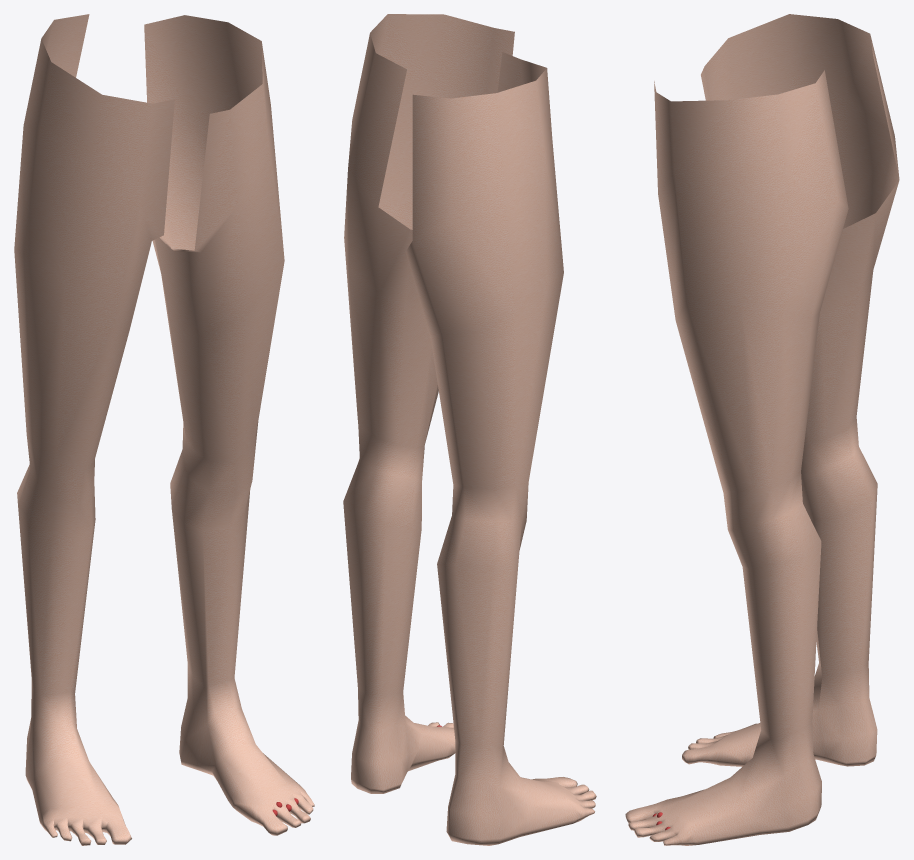
The model's file is Betadine Village_fbx_scence_02_blister_leg.fbx.
The picture shows the model from 3 angles, left to right: view 1: azimuth 30°, elevation 25°; view 2: azimuth 150°, elevation 25°; view 3: azimuth 270°, elevation 25°; orthographic projection.
Visible parts, largest first — view 1: GrandmaLeg1, GrandmaLeg; view 2: GrandmaLeg1, GrandmaLeg; view 3: GrandmaLeg, GrandmaLeg1.
Boxes of the visible parts, left/top/right/bottom form: GrandmaLeg1: left=14, top=14, right=174, bottom=845; GrandmaLeg: left=144, top=15, right=314, bottom=835; GrandmaLeg1: left=406, top=52, right=596, bottom=845; GrandmaLeg: left=343, top=14, right=514, bottom=793; GrandmaLeg: left=625, top=70, right=848, bottom=845; GrandmaLeg1: left=682, top=14, right=899, bottom=766.
Size of the model in its own units: 28.17 by 87.82 by 29.43.
